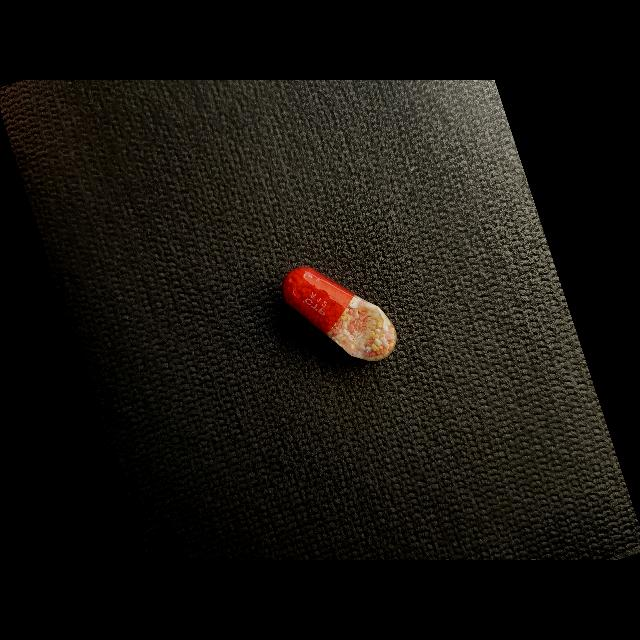Defective Capsule: (282, 267, 397, 361)
